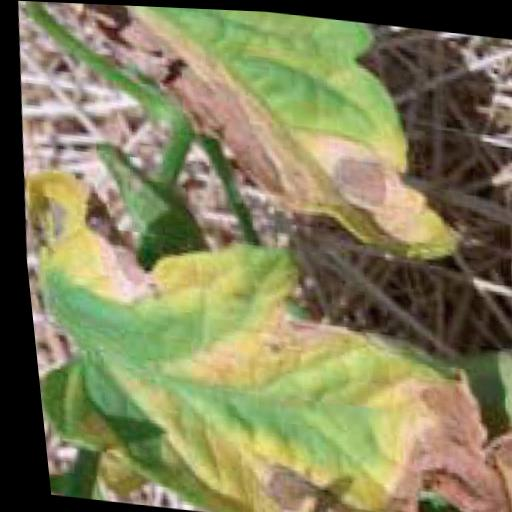Early Blight: (17, 208, 512, 512), (103, 4, 481, 246)
